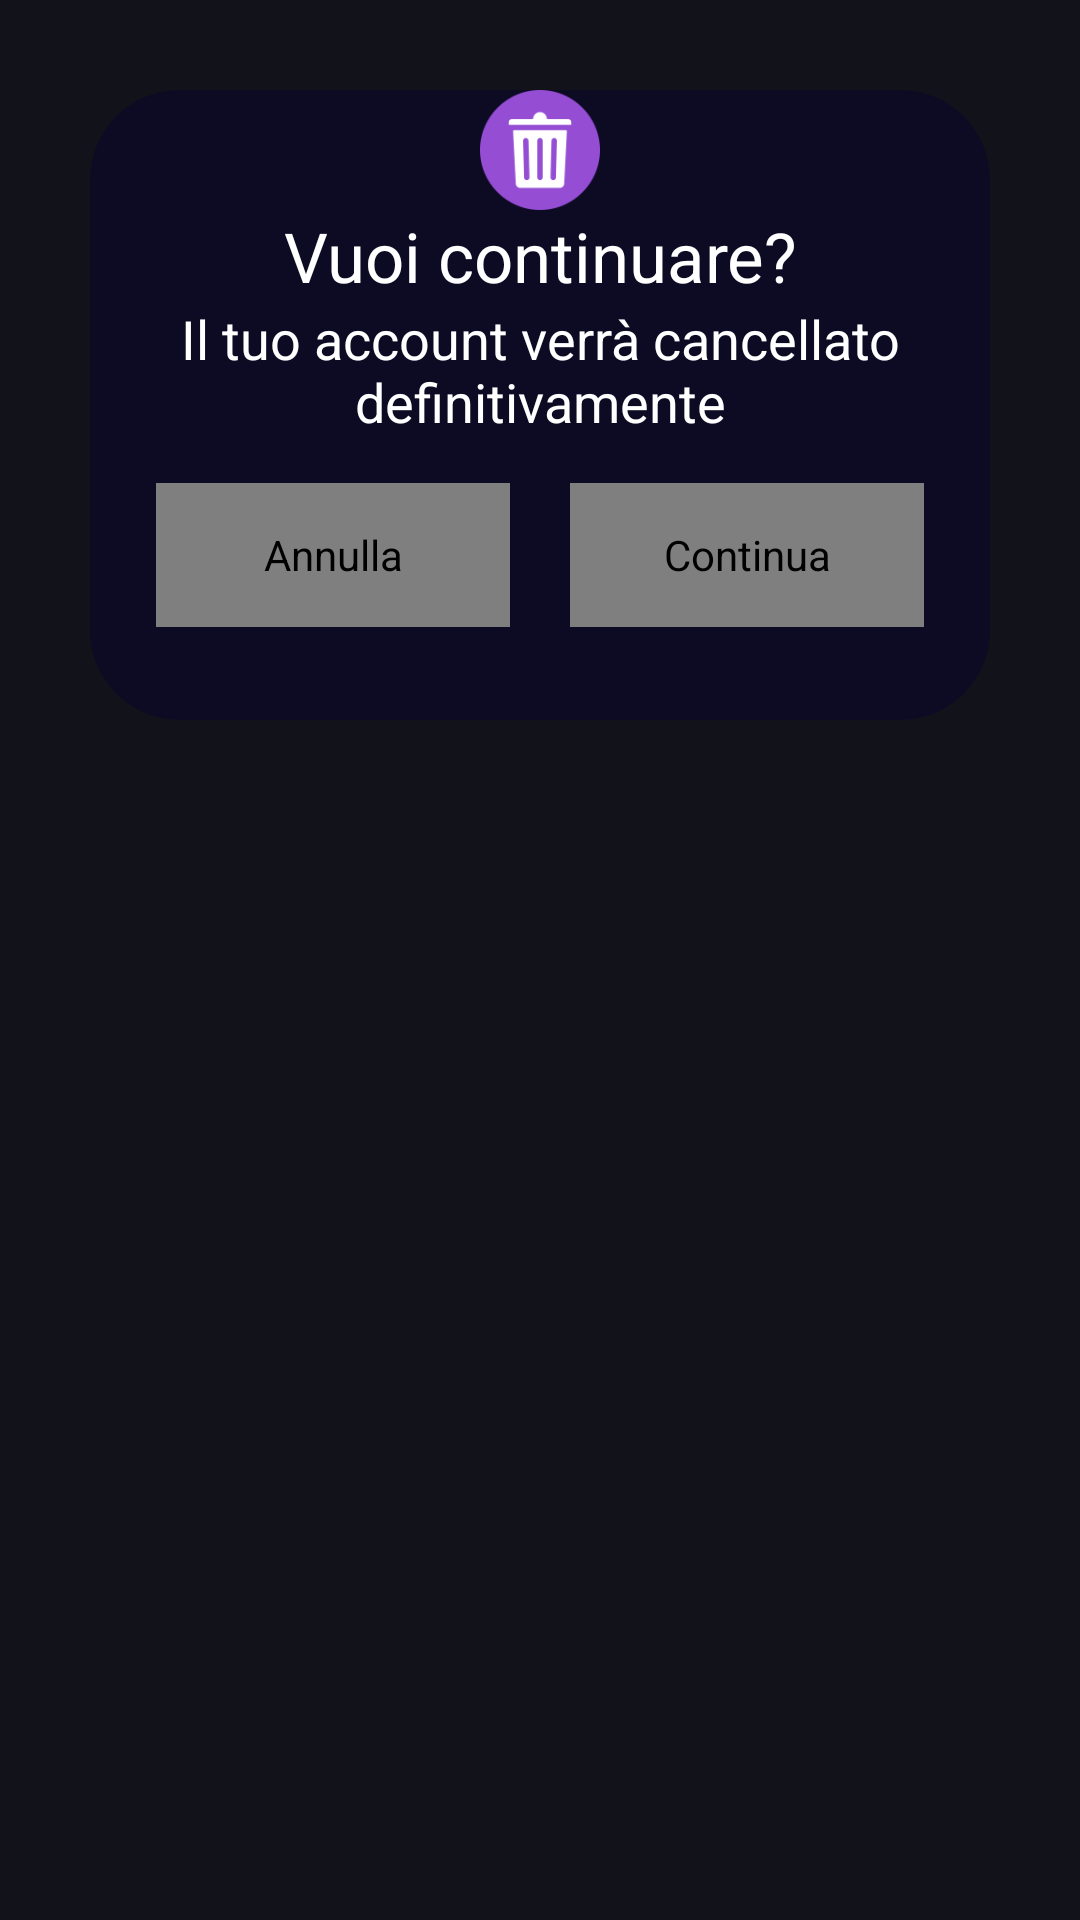

Screen size 1080px x 1920px. Icon name, then its box in pixels as (x1, y1, x2, y2):
bin: (480, 90, 600, 210)
